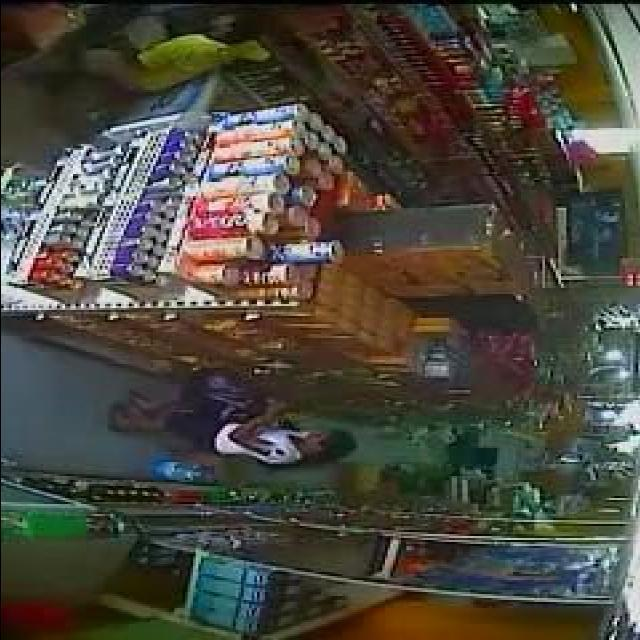Shoplifting: (42, 328, 396, 502)
